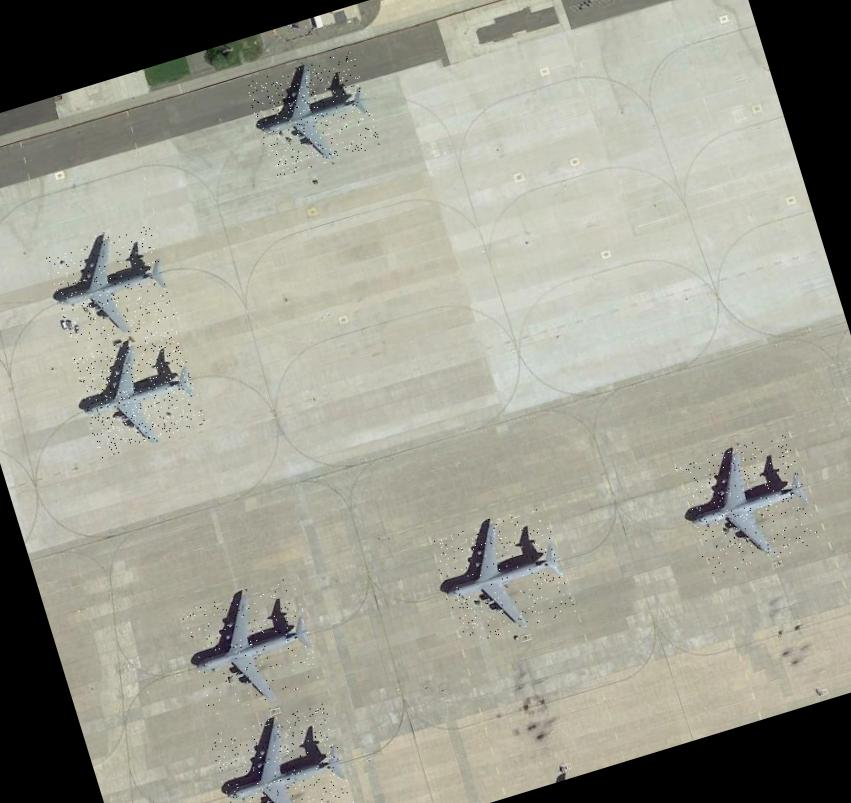A4: (674, 430, 820, 577), (427, 502, 574, 646), (177, 576, 324, 716), (68, 325, 206, 458), (41, 224, 178, 354), (244, 49, 381, 178), (207, 700, 357, 803)
